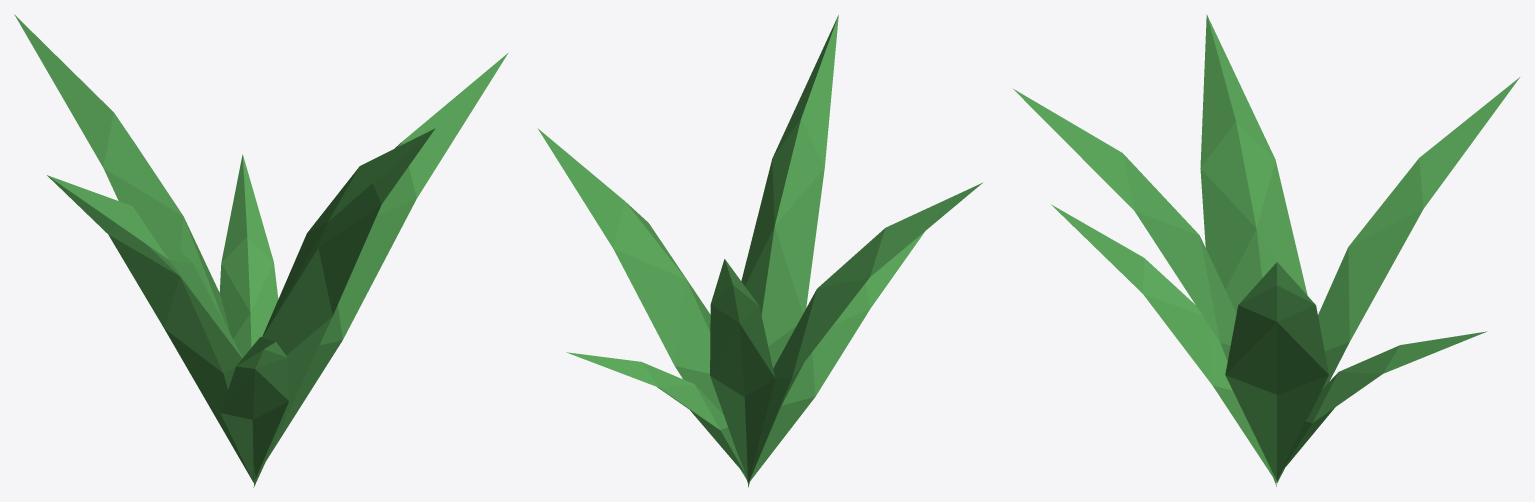
File: Prop_Grass_Clump_4.glb
3 views of the same model, side by side, from view 1: azimuth 30°, elevation 25°; view 2: azimuth 150°, elevation 25°; view 3: azimuth 270°, elevation 25° (orthographic). The views are drawn at different scales.
Visible parts, largest first — view 1: Prop_Grass_Clump_4_Merged; view 2: Prop_Grass_Clump_4_Merged; view 3: Prop_Grass_Clump_4_Merged.
Part boxes in pixels (x1,y1,x2,y2): Prop_Grass_Clump_4_Merged: (14, 14, 508, 487); Prop_Grass_Clump_4_Merged: (537, 14, 982, 487); Prop_Grass_Clump_4_Merged: (1013, 14, 1519, 486).
Bounding box in the file's own units: 0.5868 × 0.512 × 0.5676.
